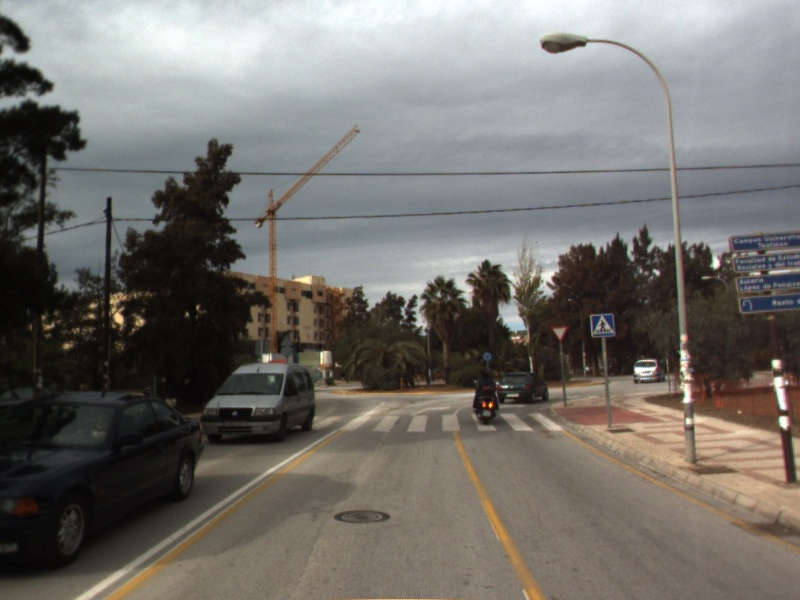RIGHT: (409, 403, 453, 418)
